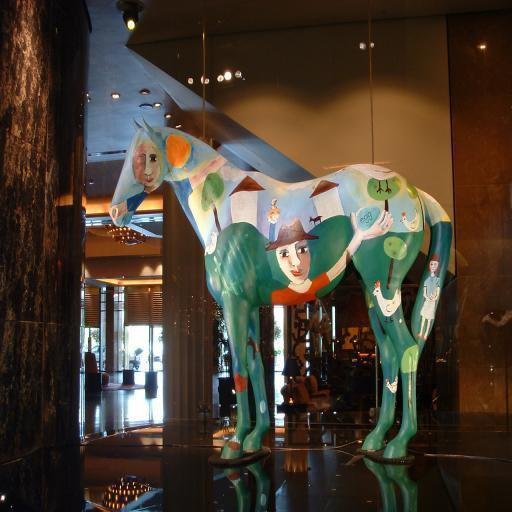horse: (106, 112, 452, 462)
